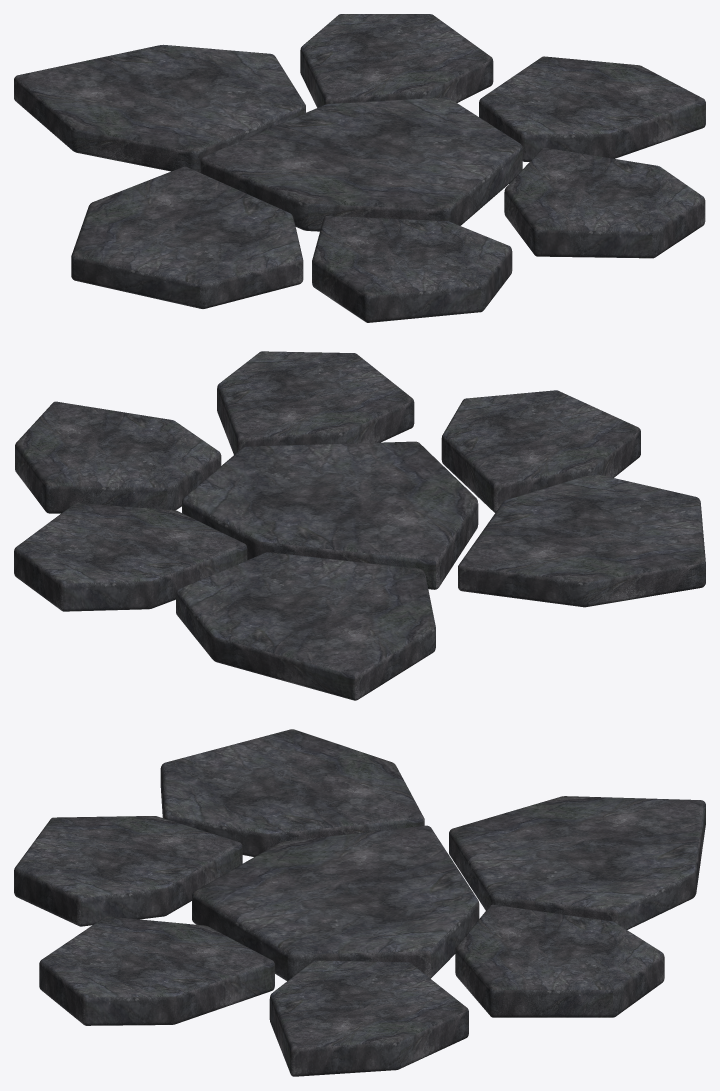
Rendered from stone7small.glb.
3 renders of one model, top to bottom at view 1: azimuth 30°, elevation 25°; view 2: azimuth 150°, elevation 25°; view 3: azimuth 270°, elevation 25°, orthographic. The views are drawn at different scales.
Visible parts, largest first — view 1: Stone_Path; view 2: Stone_Path; view 3: Stone_Path.
Boxes of the visible parts, left/top/right/bottom form: Stone_Path: left=14, top=14, right=705, bottom=322; Stone_Path: left=14, top=351, right=705, bottom=700; Stone_Path: left=14, top=729, right=705, bottom=1076.
Bounding box in the file's own units: 1.56 × 0.0728 × 1.42.
1 material, 1 textured.
